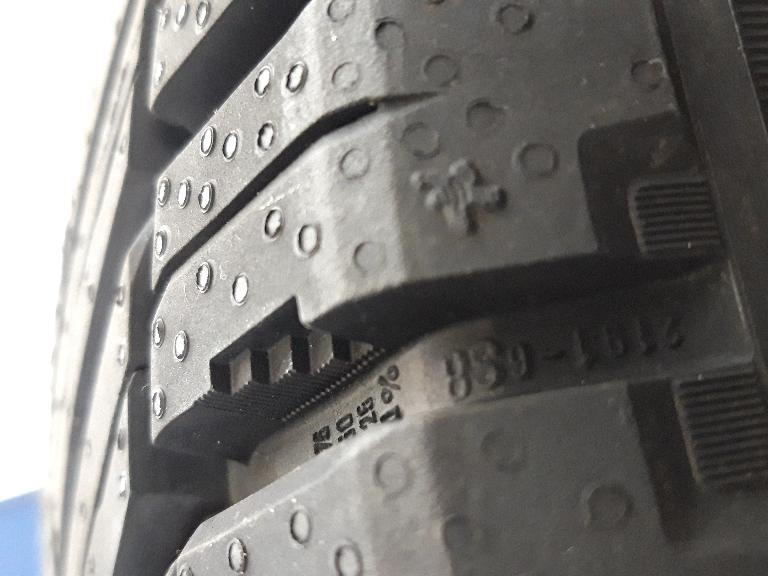temoin:100: (192, 294, 417, 425)
